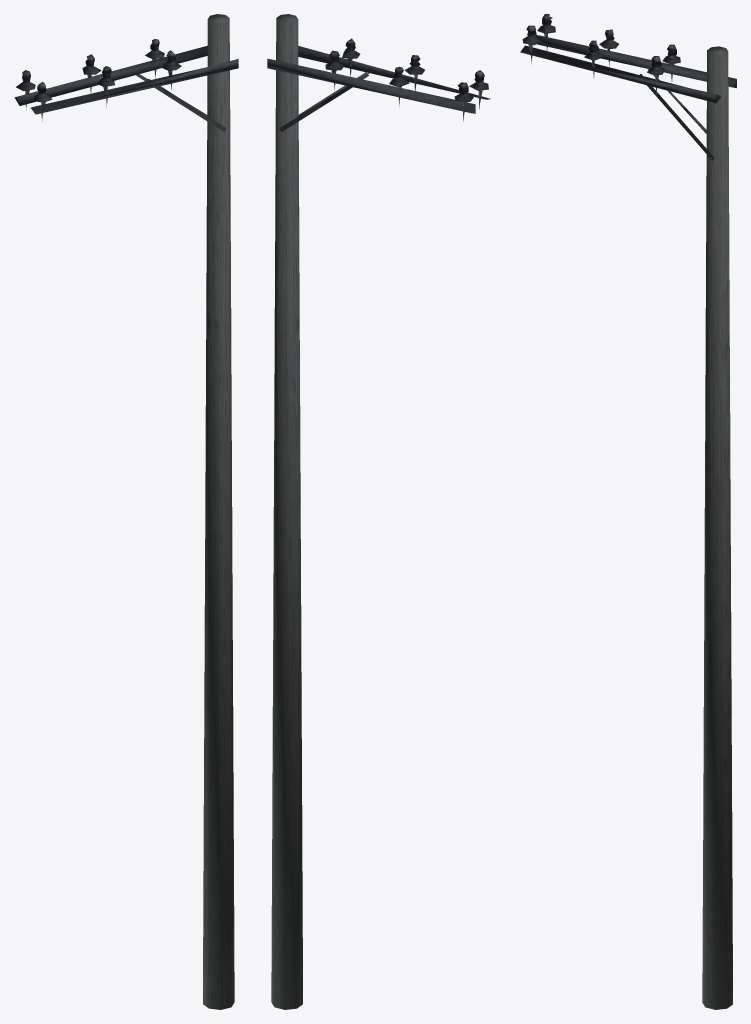
The model's file is pole_concrete_d_lod_2.glb.
3 views of the same model, side by side, from view 1: azimuth 30°, elevation 25°; view 2: azimuth 150°, elevation 25°; view 3: azimuth 330°, elevation 25° (orthographic). The views are drawn at different scales.
Parts seen in each view (by area): view 1: pole_concrete_d_lod_2; view 2: pole_concrete_d_lod_2; view 3: pole_concrete_d_lod_2.
Part boxes in pixels (<box>): pole_concrete_d_lod_2: <box>14,14,238,1009</box>; pole_concrete_d_lod_2: <box>267,14,490,1009</box>; pole_concrete_d_lod_2: <box>520,14,736,1009</box>.
Bounding box in the file's own units: 2.24 × 10.2 × 0.49.
2 materials, 2 textured.
